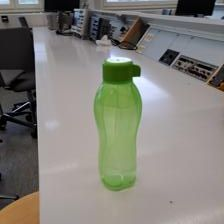bottle: (89, 52, 142, 193)
